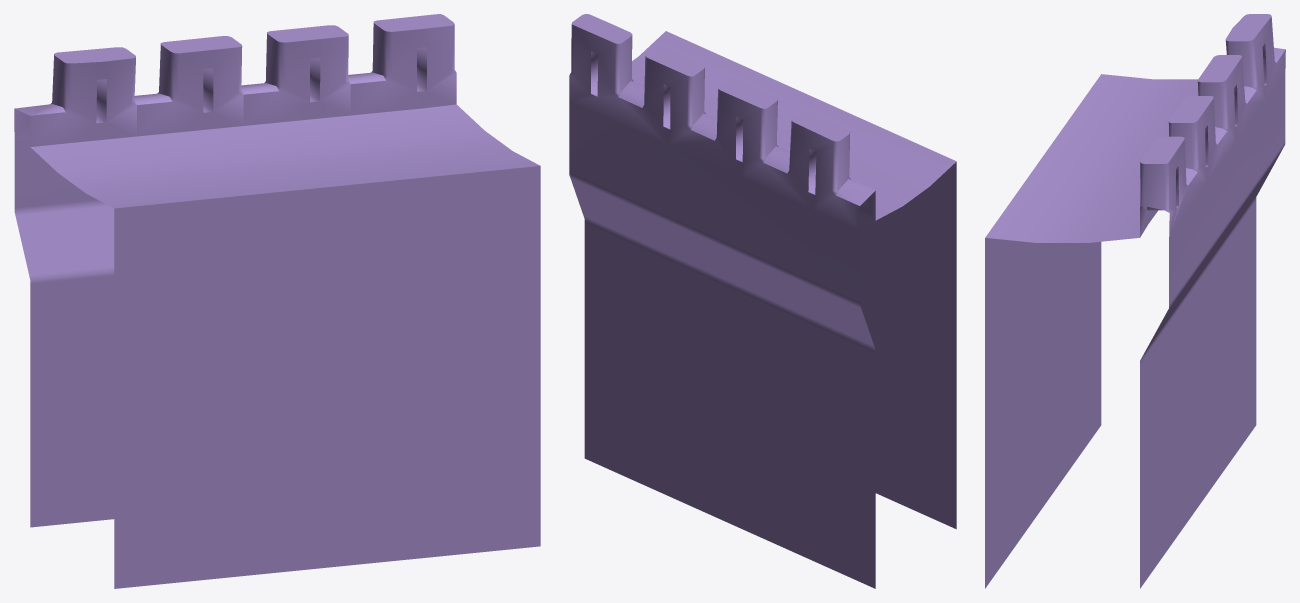
The model's file is wall_outer_10m_angle_b.fbx.
The picture shows the model from 3 angles, left to right: view 1: azimuth 30°, elevation 25°; view 2: azimuth 150°, elevation 25°; view 3: azimuth 270°, elevation 25°; orthographic projection. The views are drawn at different scales.
Parts seen in each view (by area): view 1: Cube.102; view 2: Cube.102; view 3: Cube.102.
Part boxes in pixels (x1,y1,x2,y2): Cube.102: (14,14,540,588); Cube.102: (569,14,956,588); Cube.102: (985,14,1285,588).
Bounding box in the file's own units: 10 × 12.1 × 7.76.
